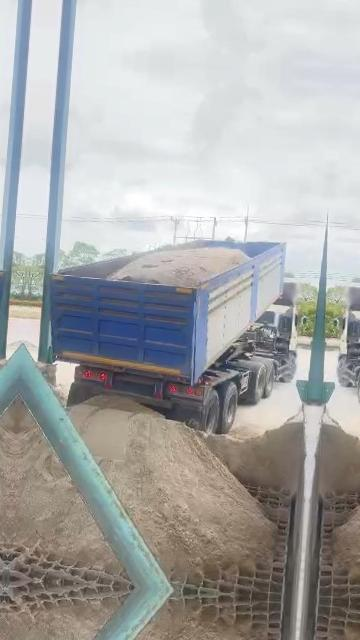sand: (71, 398, 274, 582), (8, 428, 120, 571), (204, 414, 303, 493), (108, 247, 249, 287), (37, 361, 66, 405), (16, 395, 35, 433)
